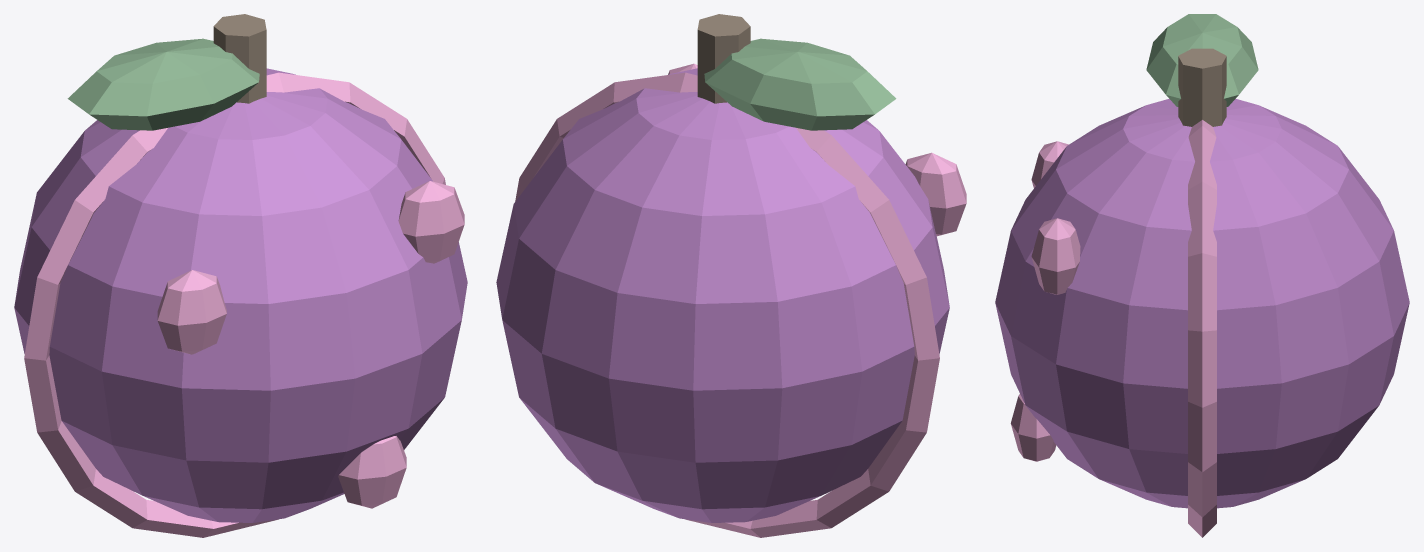
The model's file is fruto_toxico.glb.
The picture shows the model from 3 angles, left to right: view 1: azimuth 30°, elevation 25°; view 2: azimuth 150°, elevation 25°; view 3: azimuth 270°, elevation 25°; orthographic projection. The views are drawn at different scales.
Parts seen in each view (by area): view 1: fruto_toxico; view 2: fruto_toxico; view 3: fruto_toxico.
Part boxes in pixels (<box>): fruto_toxico: <box>14,14,467,537</box>; fruto_toxico: <box>496,14,966,537</box>; fruto_toxico: <box>995,14,1409,537</box>.
Size of the model in its own units: 0.438 by 0.4857 by 0.4.
